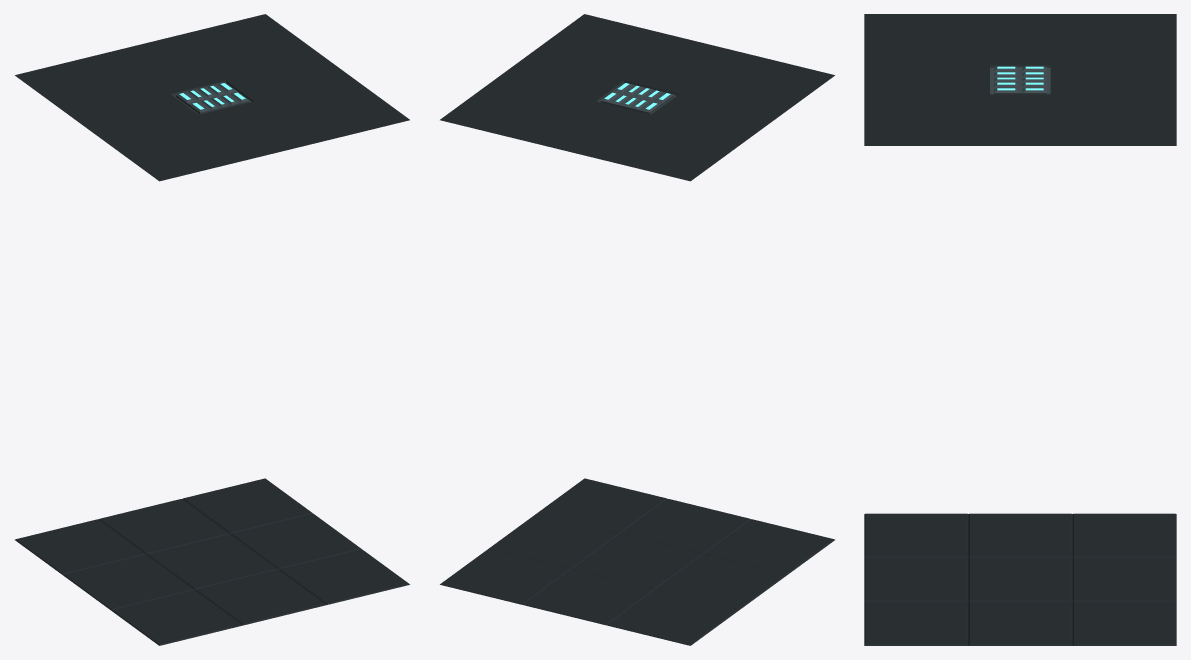
File: hallC90Mid01.fbx
3 renders of one model, left to right at view 1: azimuth 30°, elevation 25°; view 2: azimuth 150°, elevation 25°; view 3: azimuth 270°, elevation 25°, orthographic. The views are drawn at different scales.
Parts seen in each view (by area): view 1: hallC90Mid01; view 2: hallC90Mid01; view 3: hallC90Mid01.
Boxes of the visible parts, x1,y1,x2,y2 form: hallC90Mid01: (14, 14, 409, 645); hallC90Mid01: (440, 14, 835, 645); hallC90Mid01: (864, 14, 1176, 645).
Size of what is drawn, in the model's own units: 6 by 6 by 10.64.
